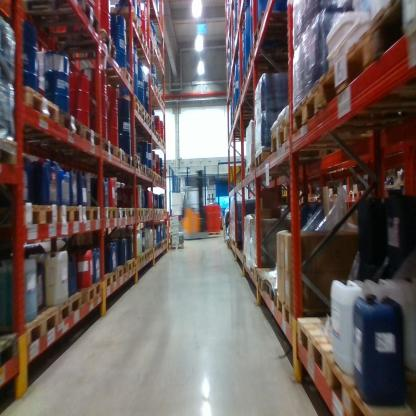forklift: (176, 160, 211, 243)
pallet: (316, 3, 414, 116), (327, 348, 413, 415), (293, 82, 392, 138), (271, 116, 379, 156), (47, 26, 121, 70), (21, 0, 105, 35), (295, 315, 331, 396), (20, 82, 59, 138), (252, 10, 299, 52), (246, 42, 301, 74), (25, 304, 60, 351), (17, 198, 59, 236), (84, 63, 138, 89), (277, 293, 303, 337), (243, 66, 284, 91), (80, 138, 116, 166), (57, 289, 84, 326), (59, 103, 84, 142), (2, 326, 20, 372), (78, 281, 103, 311), (108, 14, 143, 35), (58, 198, 83, 227), (82, 117, 100, 153), (253, 142, 274, 170), (239, 81, 266, 102), (123, 28, 147, 50), (266, 276, 280, 311), (257, 267, 277, 290), (123, 98, 143, 120), (2, 136, 18, 163), (125, 118, 153, 133), (236, 96, 262, 111), (102, 268, 117, 293), (233, 107, 258, 122), (82, 205, 103, 222), (146, 57, 166, 74), (130, 47, 150, 62), (125, 256, 137, 279), (104, 203, 117, 222), (115, 148, 128, 167), (116, 261, 128, 281), (149, 101, 168, 113), (348, 186, 363, 201), (133, 90, 143, 109), (136, 250, 146, 267), (143, 74, 155, 88), (208, 229, 223, 240), (231, 238, 242, 253), (168, 243, 184, 253), (126, 205, 136, 221), (117, 205, 126, 222), (149, 85, 159, 100), (150, 142, 165, 151), (154, 46, 164, 59), (136, 206, 144, 221), (146, 109, 154, 123), (125, 156, 135, 167), (135, 160, 142, 175), (143, 162, 149, 178), (142, 105, 148, 120), (144, 250, 151, 262), (152, 241, 158, 255), (134, 153, 142, 162), (142, 109, 147, 123), (333, 192, 340, 202), (144, 206, 150, 217), (153, 169, 158, 182), (307, 194, 314, 203), (149, 167, 154, 179), (150, 246, 156, 255), (155, 241, 161, 250), (314, 194, 320, 203), (158, 90, 162, 103), (157, 174, 162, 184), (154, 206, 158, 218), (156, 130, 160, 142), (152, 127, 156, 138), (159, 241, 165, 248), (149, 208, 154, 216), (157, 207, 160, 220), (163, 206, 167, 215), (160, 134, 163, 145), (164, 237, 167, 246), (160, 207, 163, 216)
